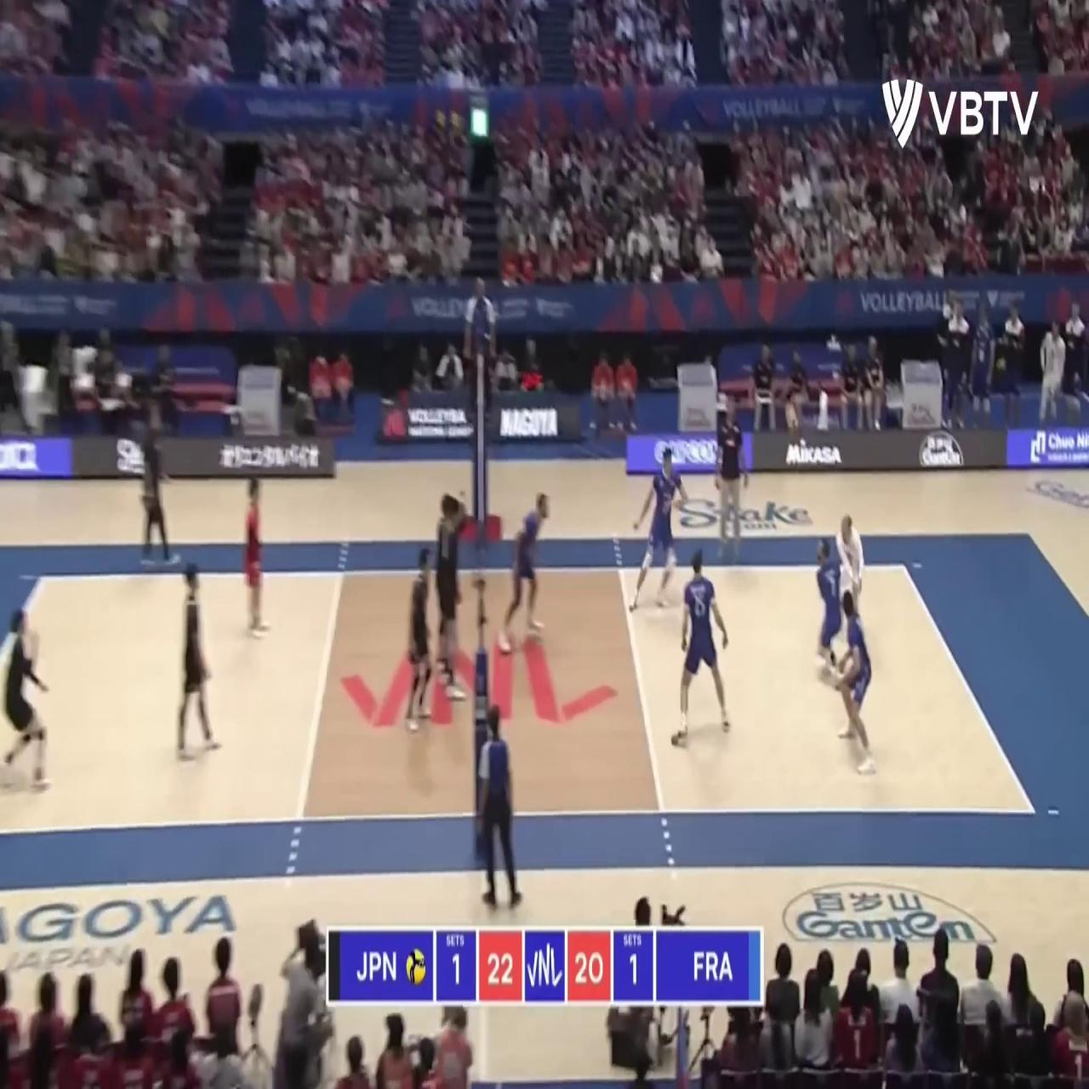ball: (785, 405, 800, 435)
